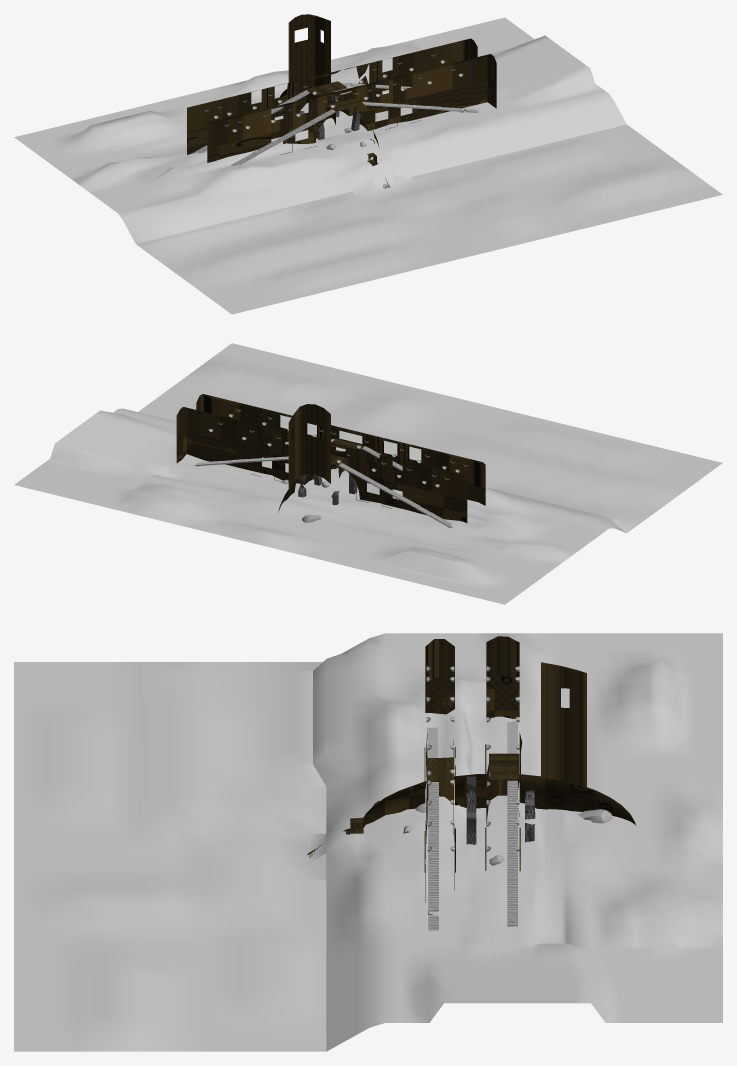
File: sixth_Temple.fbx
3 renders of one model, top to bottom at view 1: azimuth 30°, elevation 25°; view 2: azimuth 150°, elevation 25°; view 3: azimuth 270°, elevation 25°, orthographic. The views are drawn at different scales.
Visible parts, largest first — view 1: OceanFloor, Dome; view 2: OceanFloor, Dome; view 3: OceanFloor, Dome.
Boxes of the visible parts, bbox=[...] form: OceanFloor: bbox=[14, 17, 722, 314]; Dome: bbox=[187, 14, 496, 188]; OceanFloor: bbox=[14, 343, 722, 604]; Dome: bbox=[176, 394, 485, 522]; OceanFloor: bbox=[14, 633, 722, 1051]; Dome: bbox=[307, 636, 635, 902].
Bounding box in the file's own units: 214 × 48.89 × 165.
